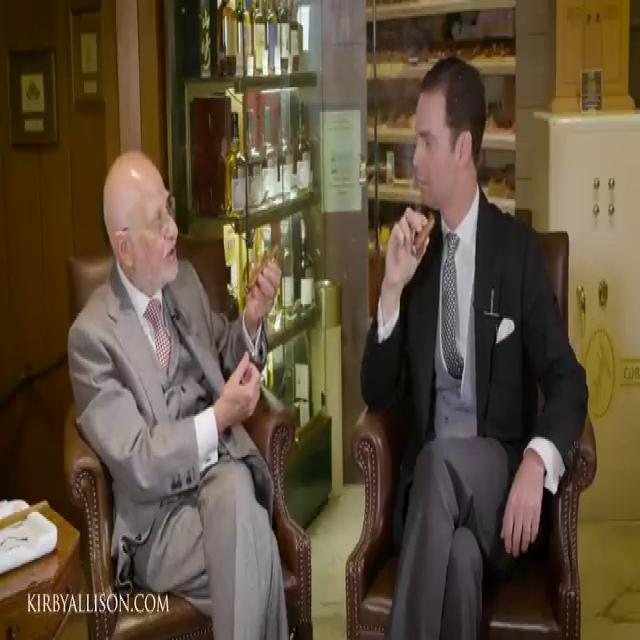Smooking: (406, 206, 439, 264)
